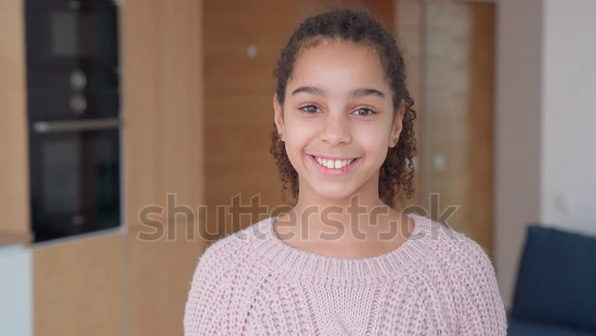No Mask: (277, 136, 393, 198)
